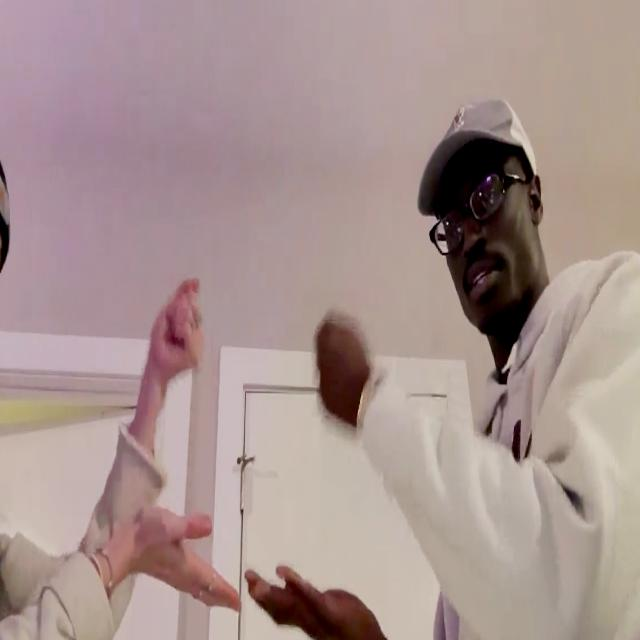Rock: (314, 316, 371, 428), (152, 276, 204, 377)
